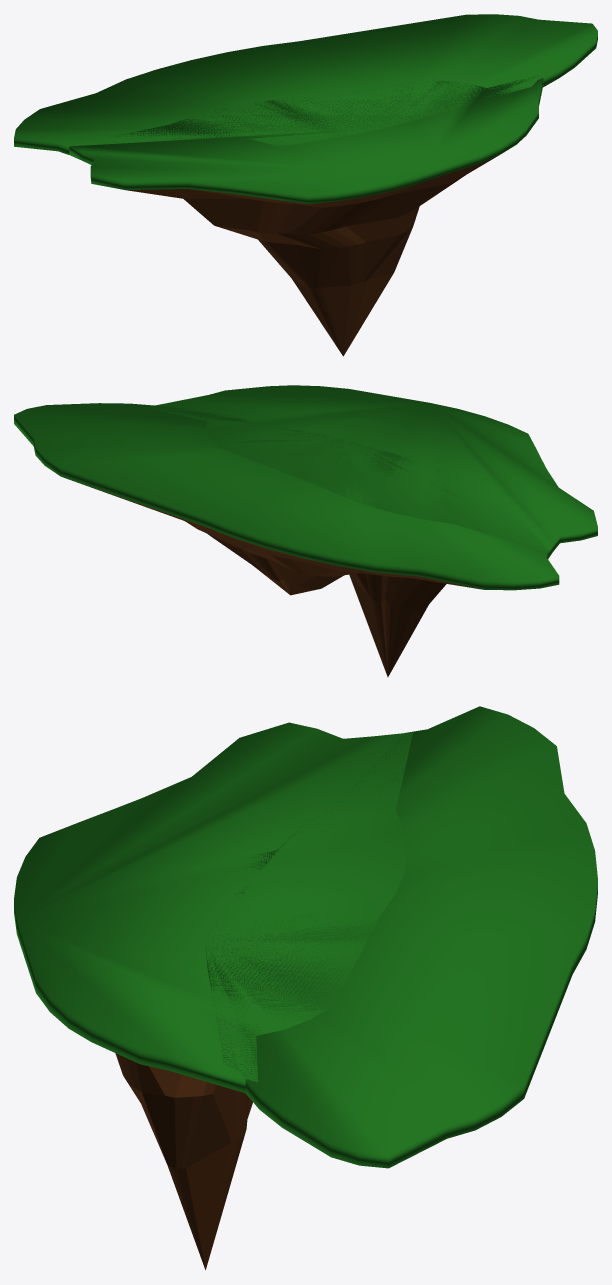
Rendered from float island.fbx.
3 renders of one model, top to bottom at view 1: azimuth 30°, elevation 25°; view 2: azimuth 150°, elevation 25°; view 3: azimuth 270°, elevation 25°, orthographic. The views are drawn at different scales.
Parts seen in each view (by area): view 1: Cylinder.001; view 2: Cylinder.001; view 3: Cylinder.001.
Part boxes in pixels (box(x1,y1,x2,y2)): Cylinder.001: box(14, 14, 597, 356); Cylinder.001: box(14, 385, 597, 677); Cylinder.001: box(14, 706, 597, 1269).
Bounding box in the file's own units: 2824 × 1070 × 1557.
